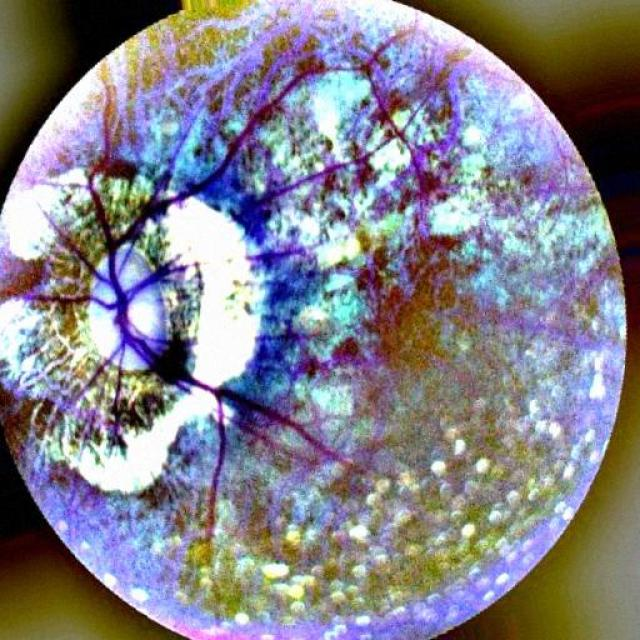Macula: (372, 241, 486, 367)
Nerves: (170, 356, 339, 500), (134, 112, 270, 239), (84, 147, 106, 236)
Optic Disk: (78, 242, 169, 373)
